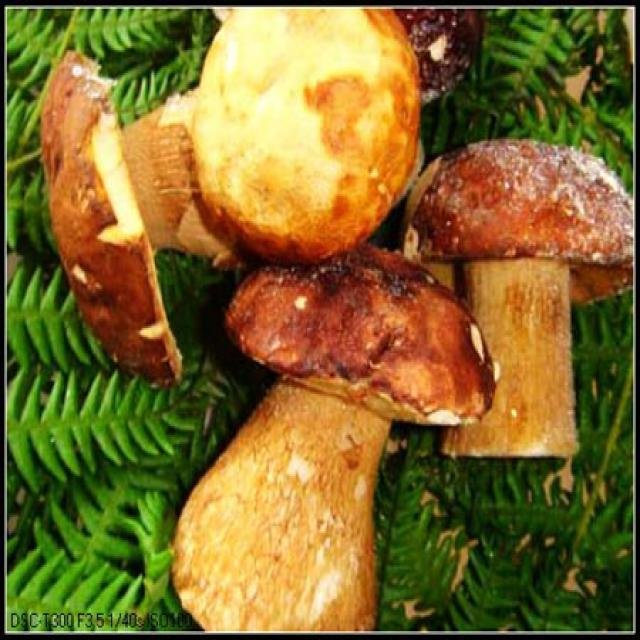Boletus: (180, 251, 487, 640), (411, 143, 636, 457), (42, 52, 247, 378), (192, 8, 424, 246)
